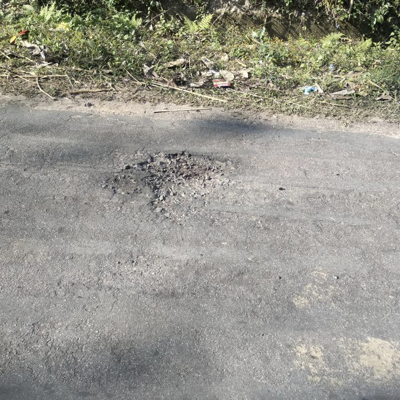pothole: (131, 152, 242, 216)
